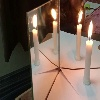fire: (88, 20, 93, 44)
